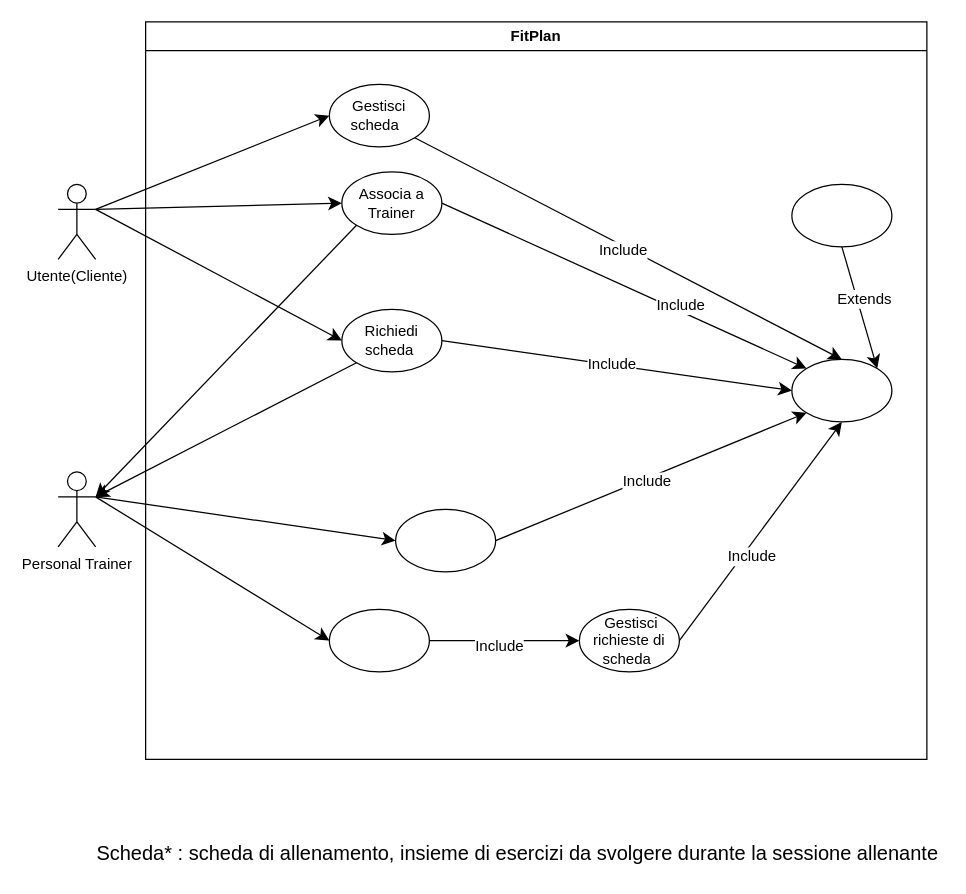
This 966x894 diagram has some shape labels left out. The shapes that lost their labels are listed below. From the top down, each one's centre as x and y in pixels, then its label:
At point 841,215: "Registrazione".
At point 841,390: "Accesso".
At point 445,540: "Condividi codice identificativo".
At point 378,640: "Componi scheda".
